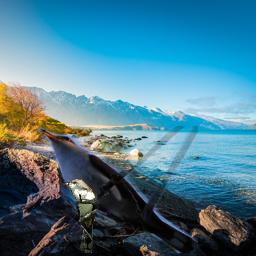Cuckoo: (36, 126, 198, 253), (63, 179, 99, 253)
